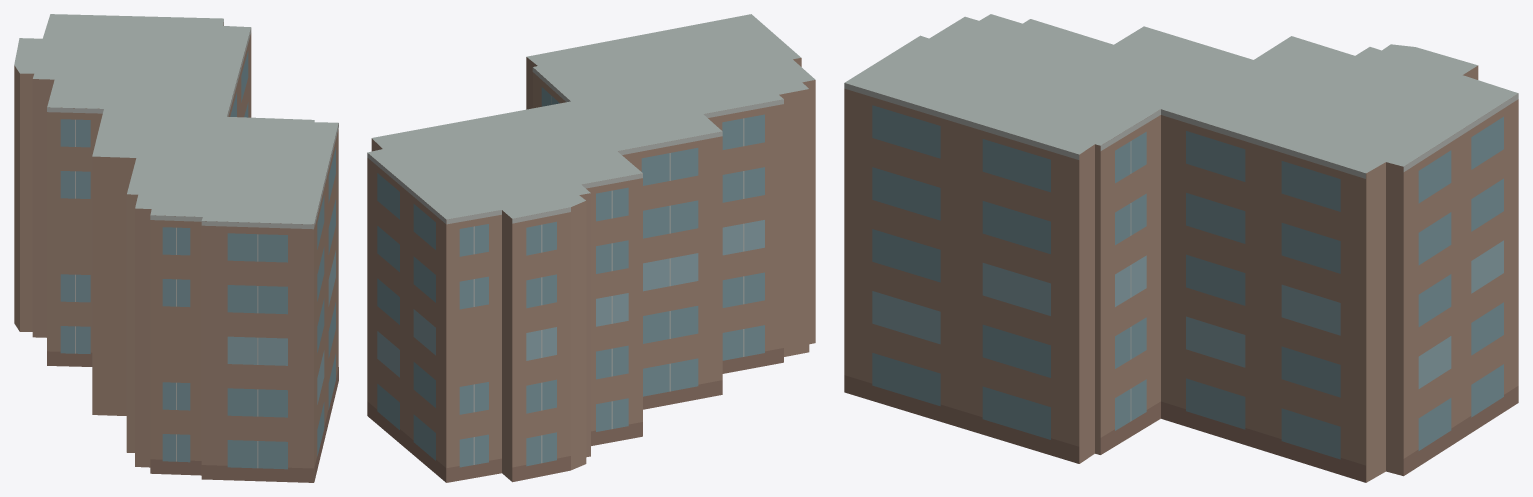
The model's file is survey-upis-33028728.glb.
The picture shows the model from 3 angles, left to right: view 1: azimuth 30°, elevation 25°; view 2: azimuth 150°, elevation 25°; view 3: azimuth 270°, elevation 25°; orthographic projection. The views are drawn at different scales.
Parts seen in each view (by area): view 1: survey-upis-33028728.tmp; view 2: survey-upis-33028728.tmp; view 3: survey-upis-33028728.tmp.
Part boxes in pixels (x1,y1,x2,y2): survey-upis-33028728.tmp: [14, 14, 338, 482]; survey-upis-33028728.tmp: [367, 14, 815, 482]; survey-upis-33028728.tmp: [844, 14, 1518, 482].
Bounding box in the file's own units: 14.7 × 13.3 × 26.28.
